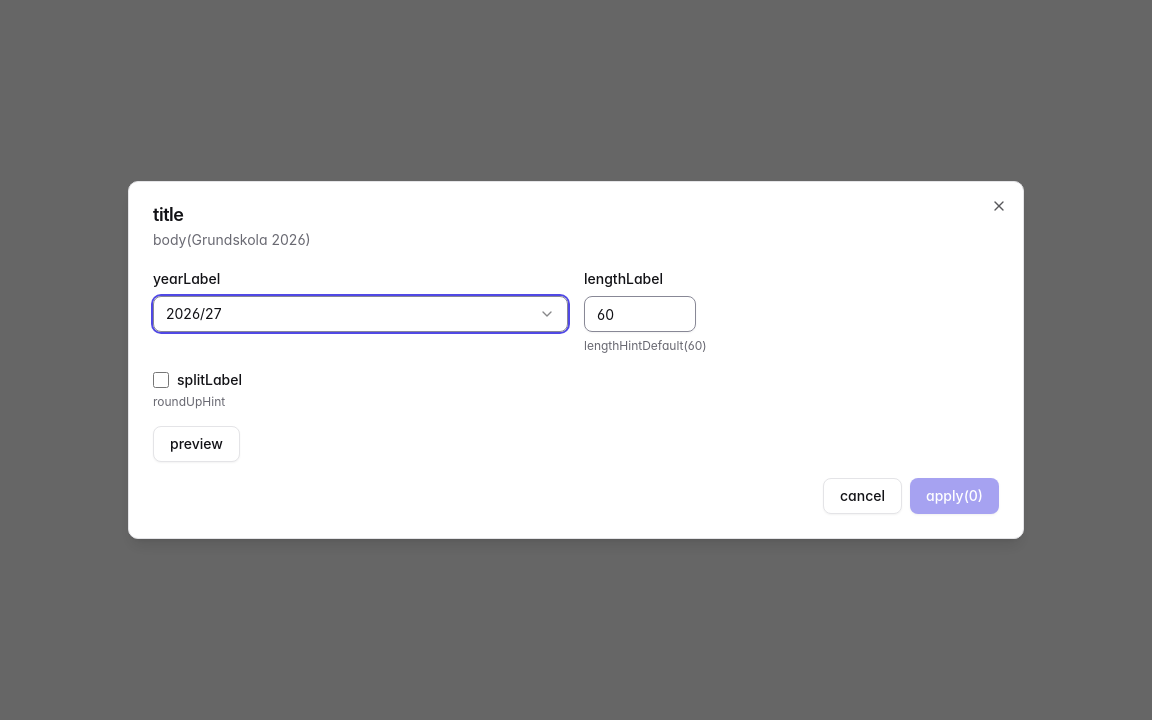
Test: GenerateDialog › says why språkval and SvA are not created on the class, and counts only existing pairs as existing
Click the button "preview".
click(196, 444)  # box [153,426,240,462]
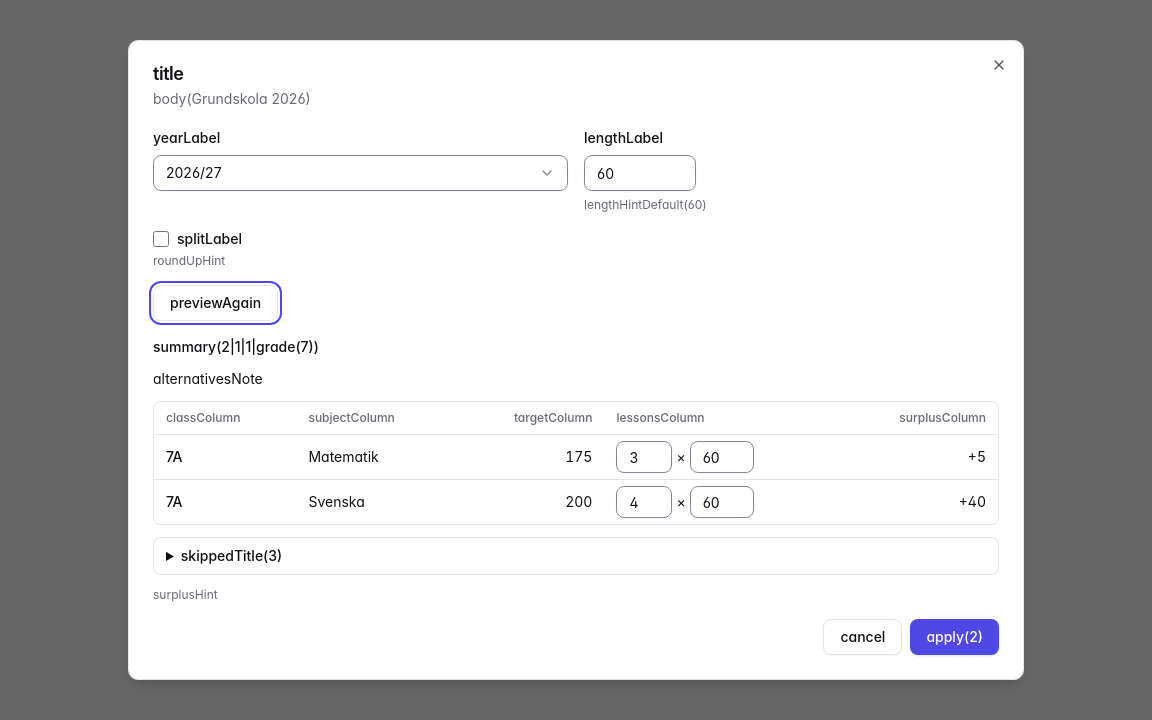
Expected: the text "summary(2|1|1|grade(7))" is shown, [153,338,319,355]
Expected: the text "alternativesNote" is shown, [153,370,263,387]
Expected: the heading "skippedTitle(3)" is shown, [181,547,282,564]
